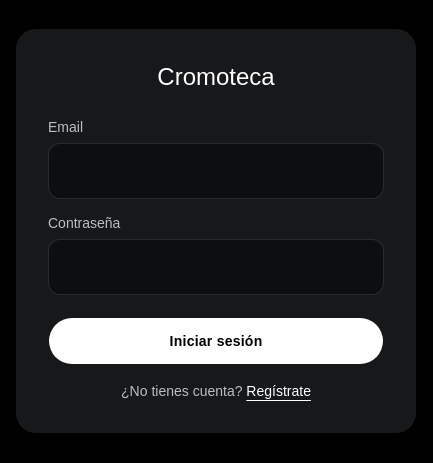
Test: LoginScreen — R-AUTH-03 validation envelope mapping › renders server 400 fieldErrors under the field and shows NO global modal
Type "user@example.com" into the field labelled "Email" at (216, 171), box x1=48 y1=143 x2=384 y2=199
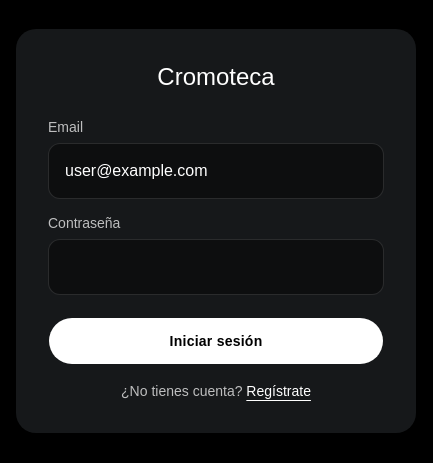
Type "Secret1!" into the password field labelled "Contraseña" at (216, 267), box x1=48 y1=239 x2=384 y2=295
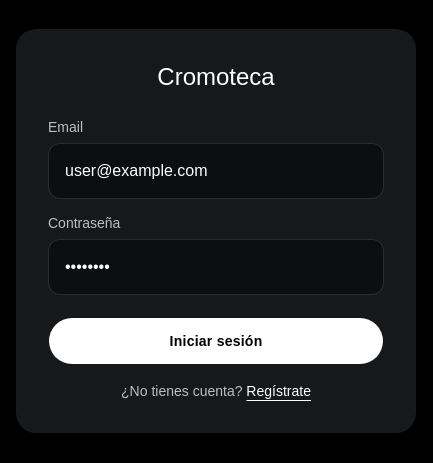
Click the button "Iniciar sesión" at (216, 341), box x1=48 y1=317 x2=384 y2=365
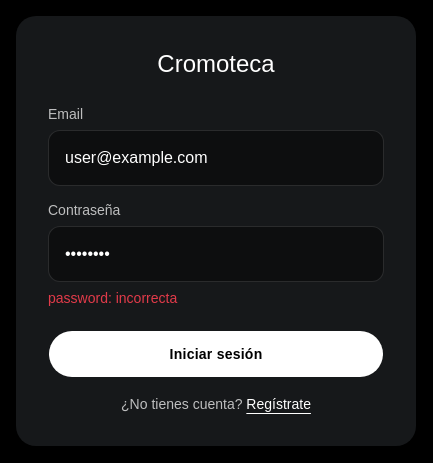
Expected: the message shows "incorrecta", x1=48 y1=290 x2=177 y2=306
